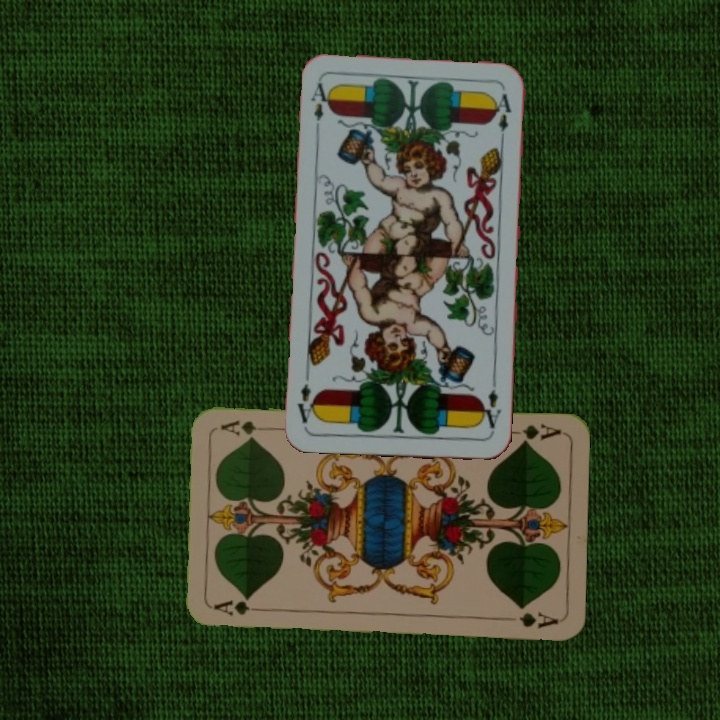EA: (307, 78, 334, 136), (476, 385, 503, 435)
GA: (505, 419, 564, 446), (210, 597, 269, 619)
